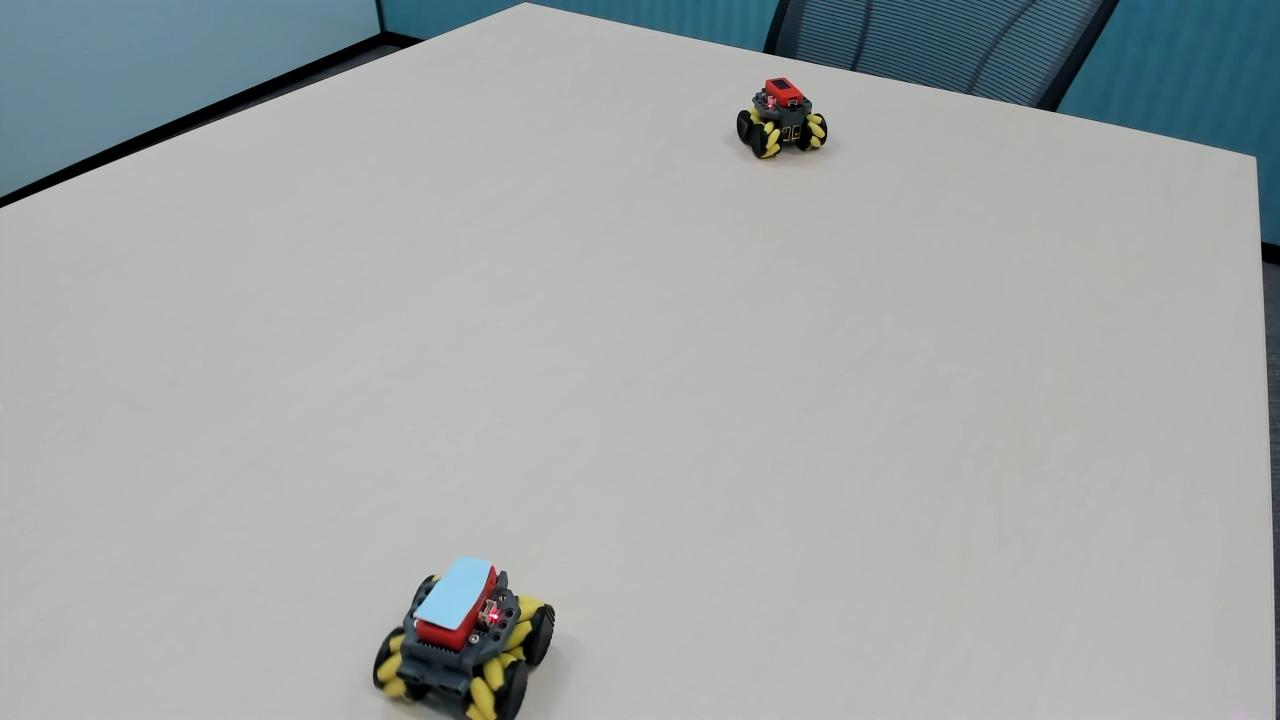B-Robot: (366, 544, 566, 718)
R-Robot: (723, 63, 844, 170)
